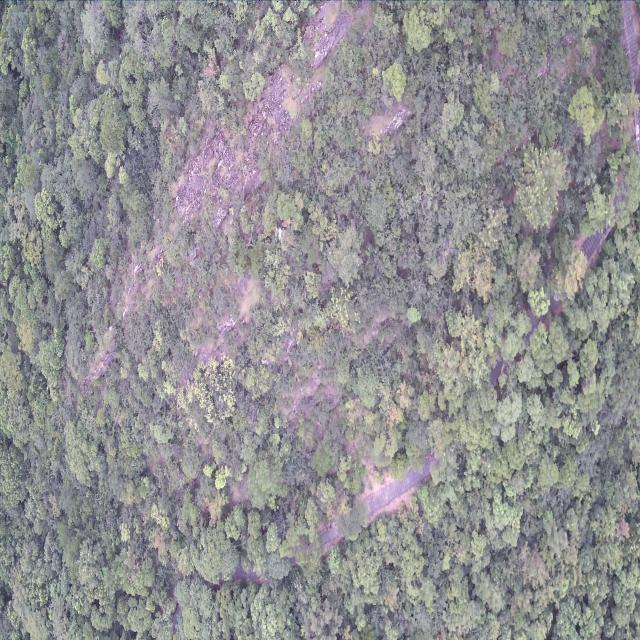UAV: (274, 225, 286, 242)
